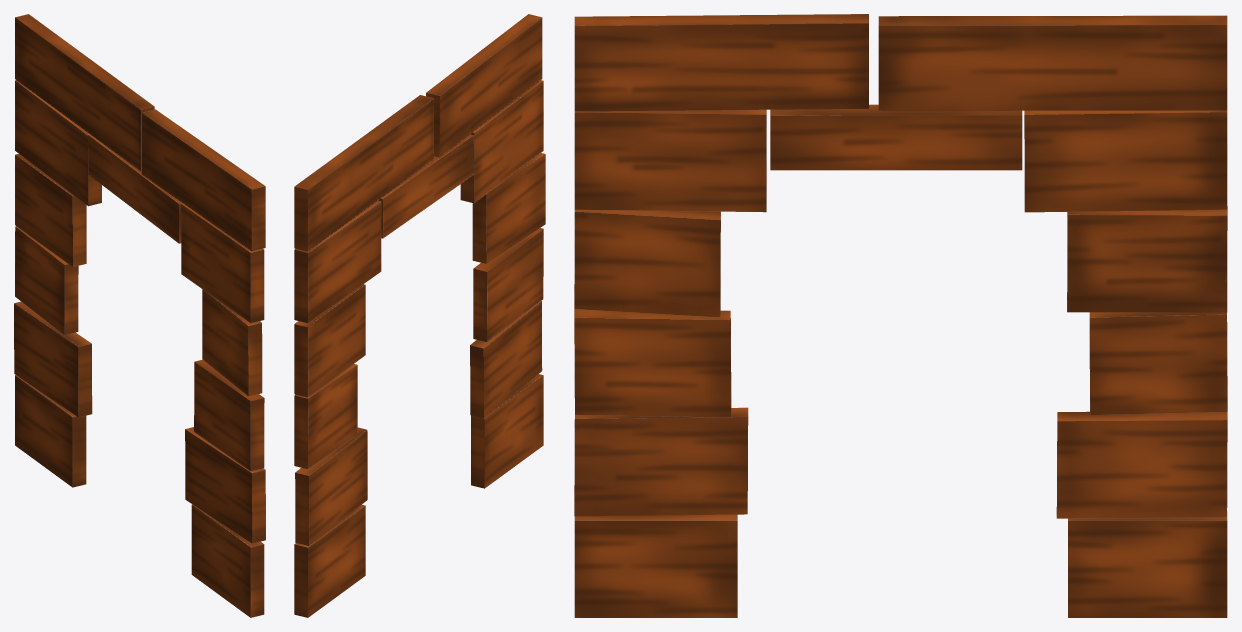
The model's file is parede porta madeira.fbx.
3 renders of one model, left to right at view 1: azimuth 30°, elevation 25°; view 2: azimuth 150°, elevation 25°; view 3: azimuth 270°, elevation 25°, orthographic. The views are drawn at different scales.
Parts seen in each view (by area): view 1: PAREDE.009; view 2: PAREDE.009; view 3: PAREDE.009.
Boxes of the visible parts, x1=… form: PAREDE.009: x1=14, y1=14, x2=265, y2=617; PAREDE.009: x1=294, y1=14, x2=545, y2=617; PAREDE.009: x1=574, y1=14, x2=1227, y2=617.
Size of the model in its own units: 10.44 by 200 by 200.
Materials: 1 (1 with a texture image).
